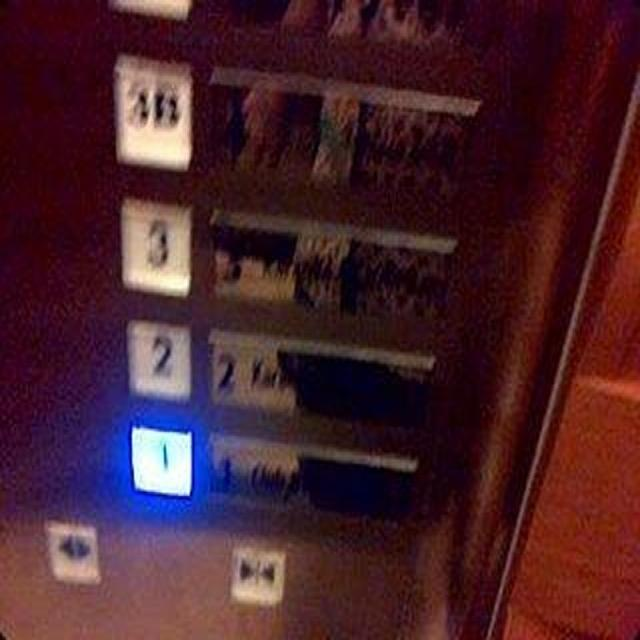1: (126, 420, 195, 499)
2: (122, 312, 193, 401)
3: (115, 191, 192, 296)
blur: (108, 48, 193, 171)
close: (225, 536, 289, 612)
open: (42, 516, 103, 588)
